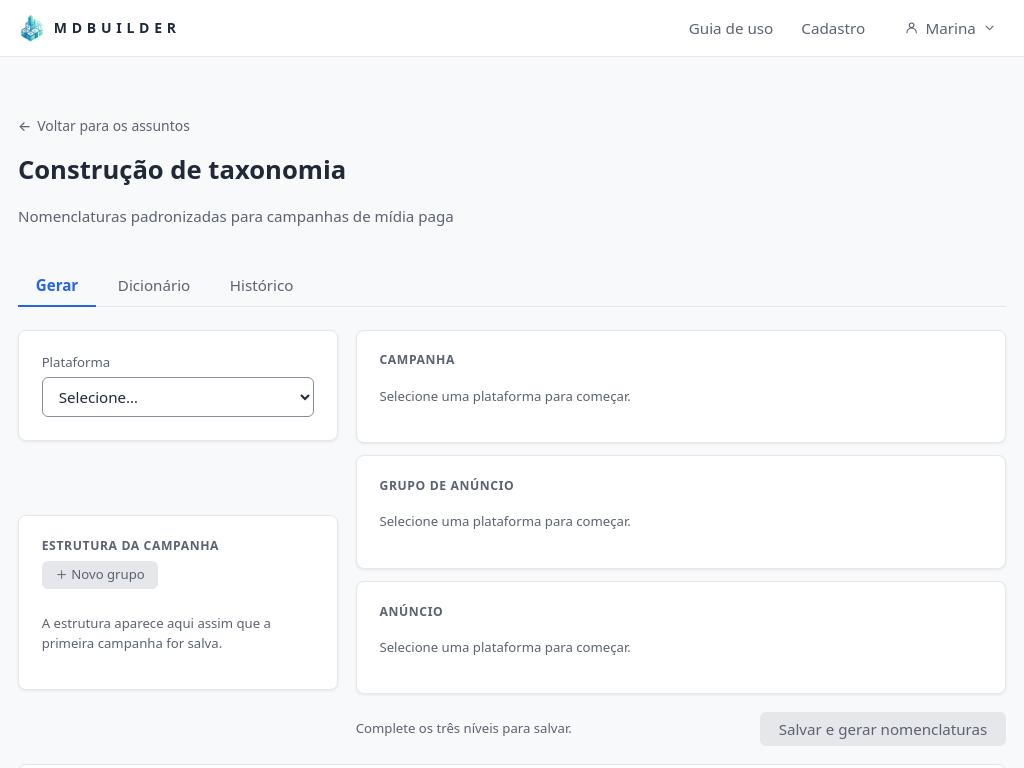
Test case: menu de conta › sair encerra a sessão no servidor e devolve ao login
Expected: the tab "Gerar" is shown, [18, 266, 96, 307]
Click the button "Marina": [951, 28] box [895, 11, 1006, 45]
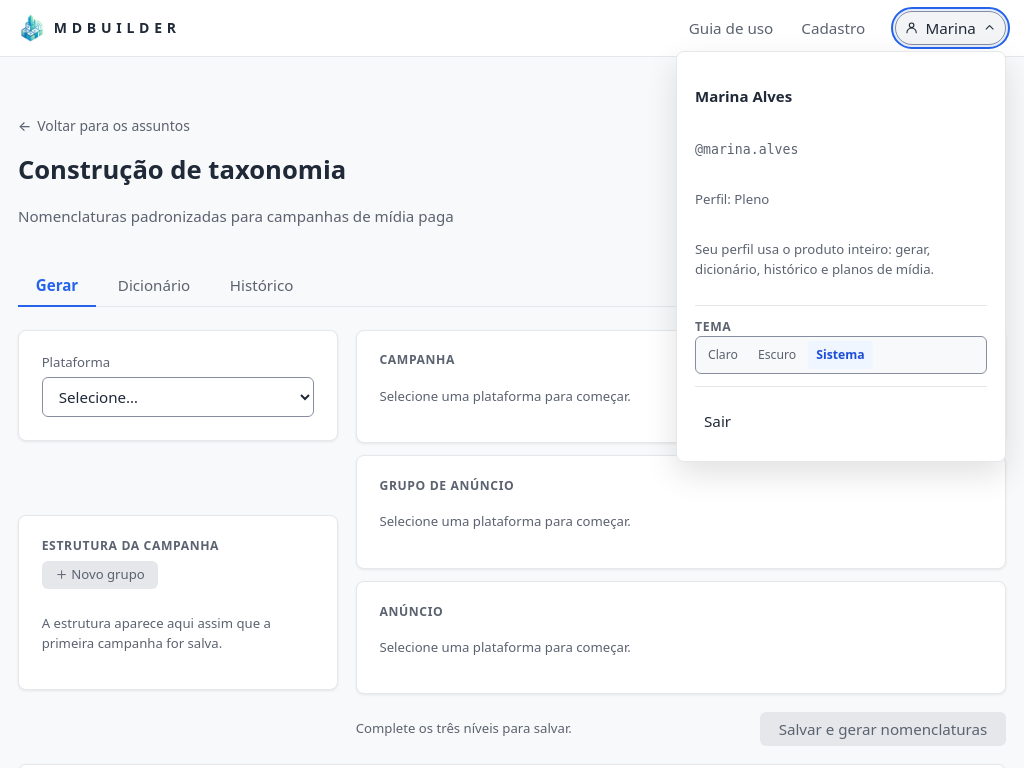
Click the button "Sair": [718, 421] box [695, 399, 987, 443]
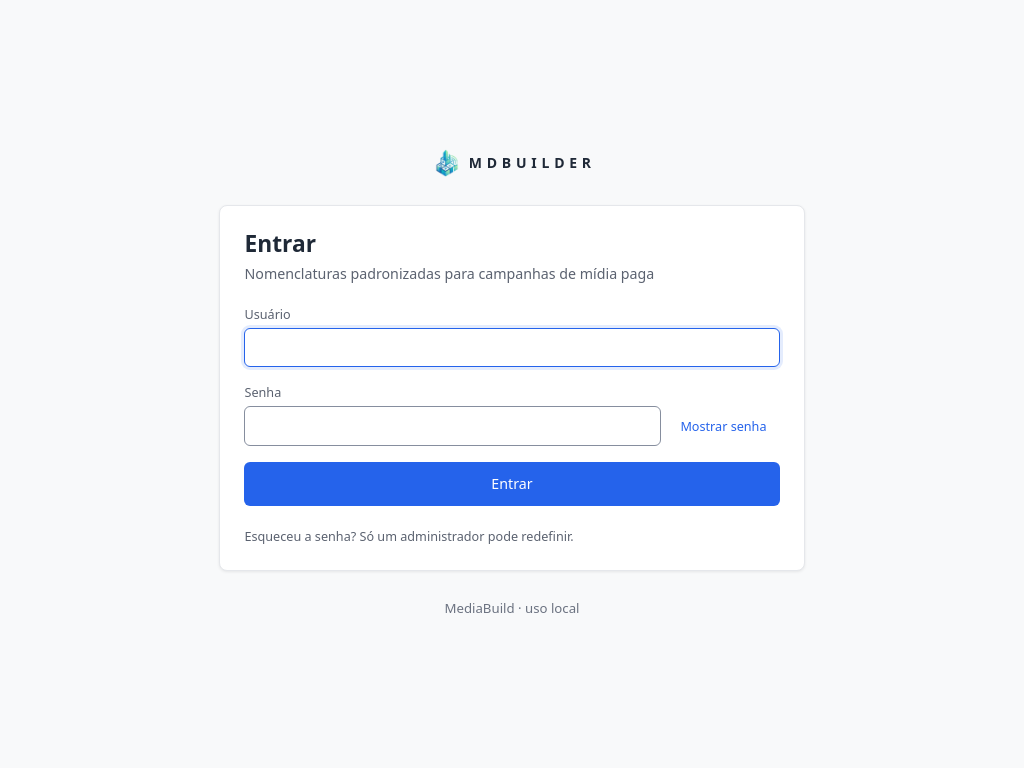
Now the heading "Entrar" is shown, box [244, 228, 316, 259]
